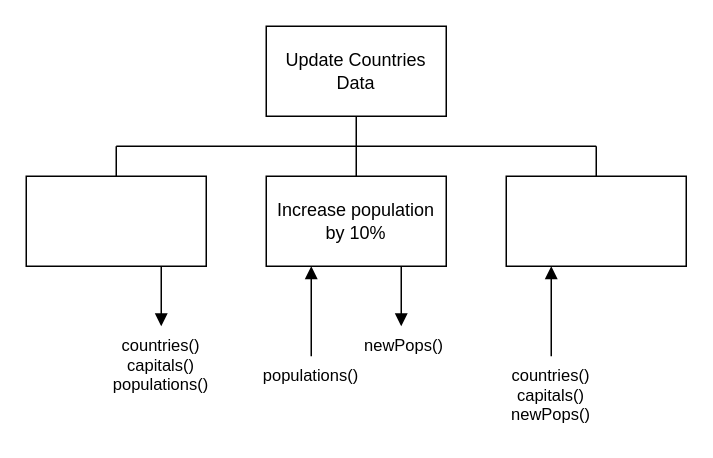
Some shapes in this 713 by 458 pixel diagram are drawn without their labels. The centre of each missing label's shape, as x and y in pixels:
"Get data" goes at [115,220].
"Save data" goes at [595,220].
